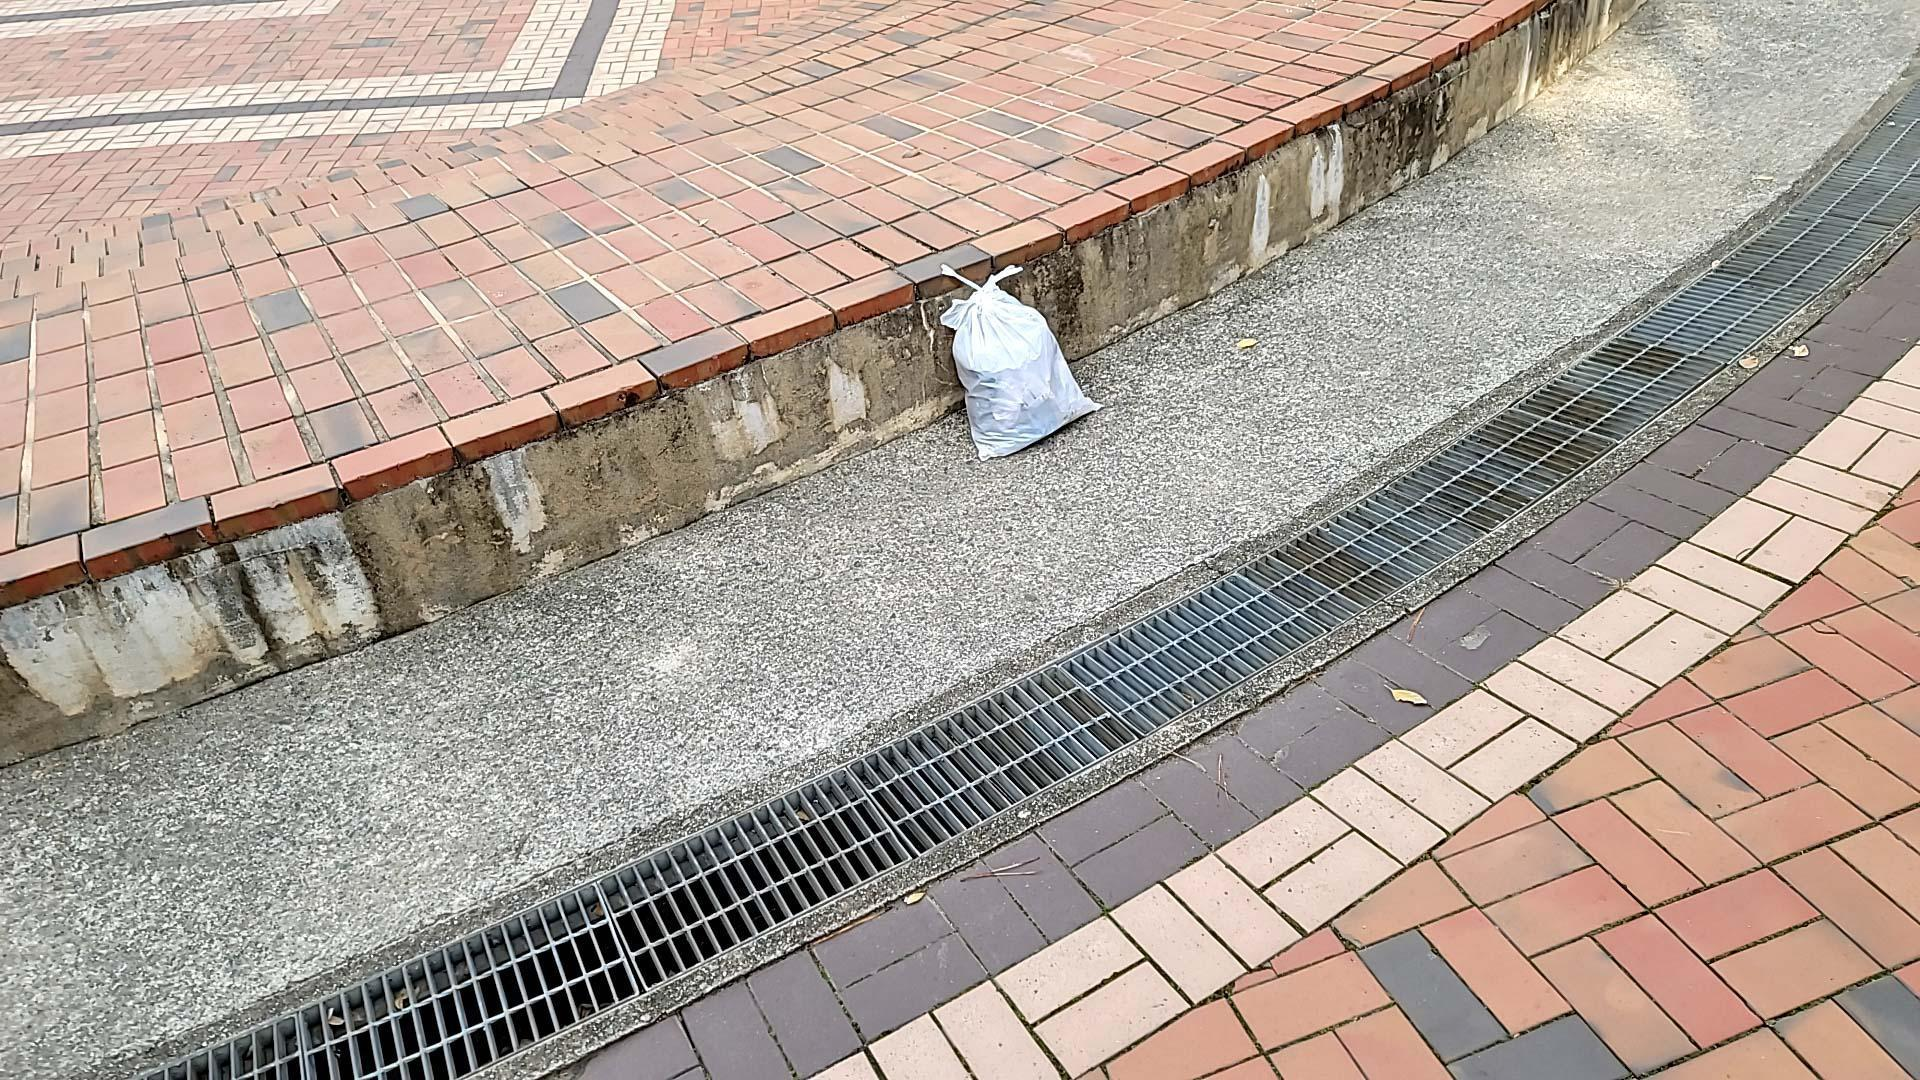white_bag: (919, 253, 1117, 469)
